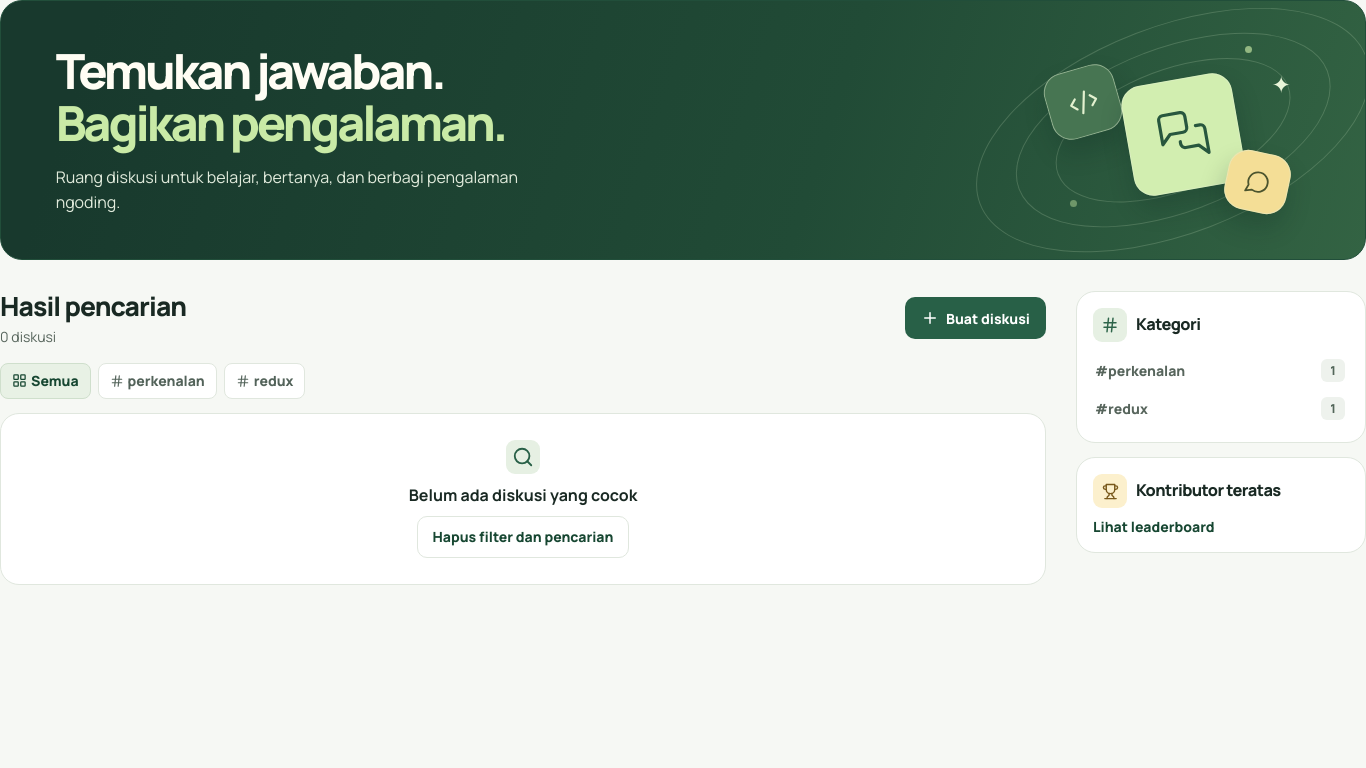
Test case: FeedPage › menghapus pencarian dan menampilkan lagi diskusi dari kondisi kosong
The width and height of the screenshot is (1366, 768).
Check: the text "Belum ada diskusi yang cocok" is shown, box [409, 484, 637, 506]
Click the button "Hapus filter dan pencarian" at x=523, y=537, box [416, 516, 629, 558]
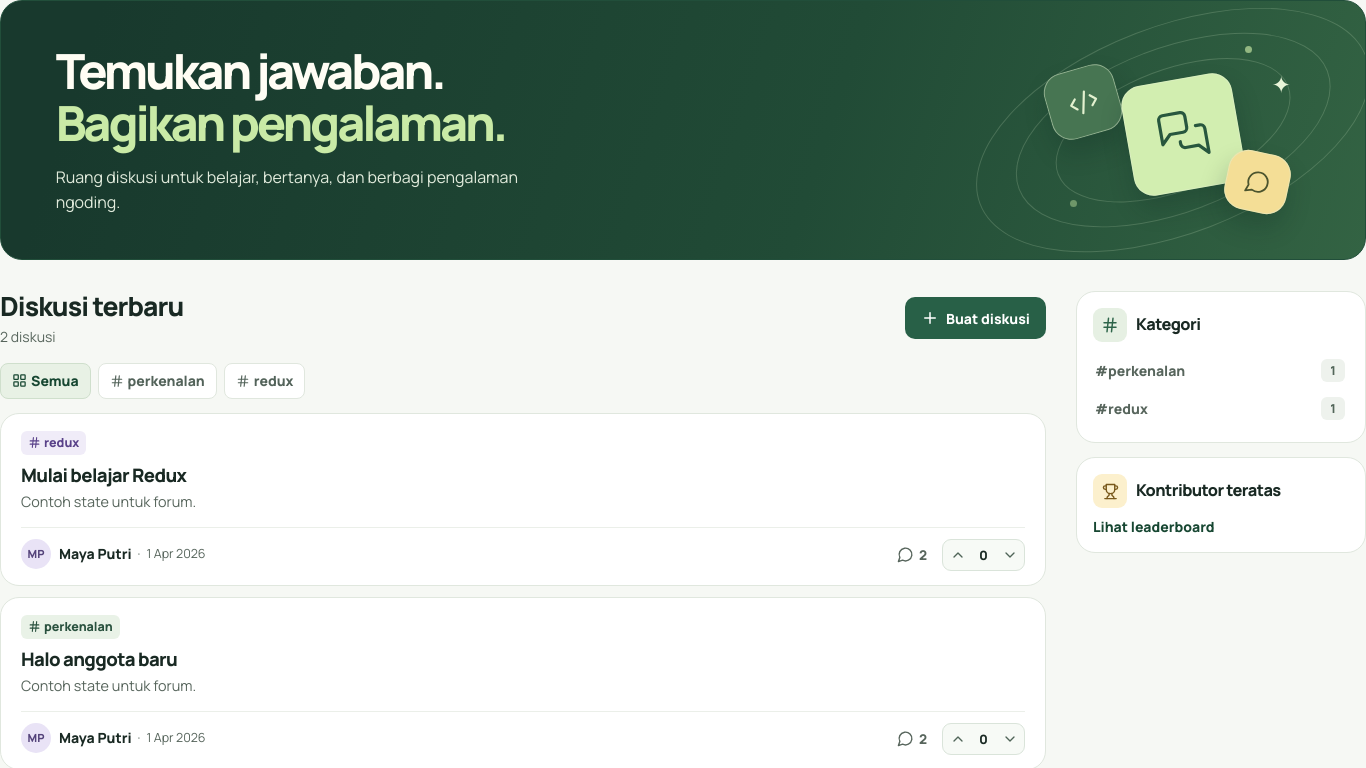
Check: the heading "Diskusi terbaru" is shown, box [0, 291, 183, 323]
